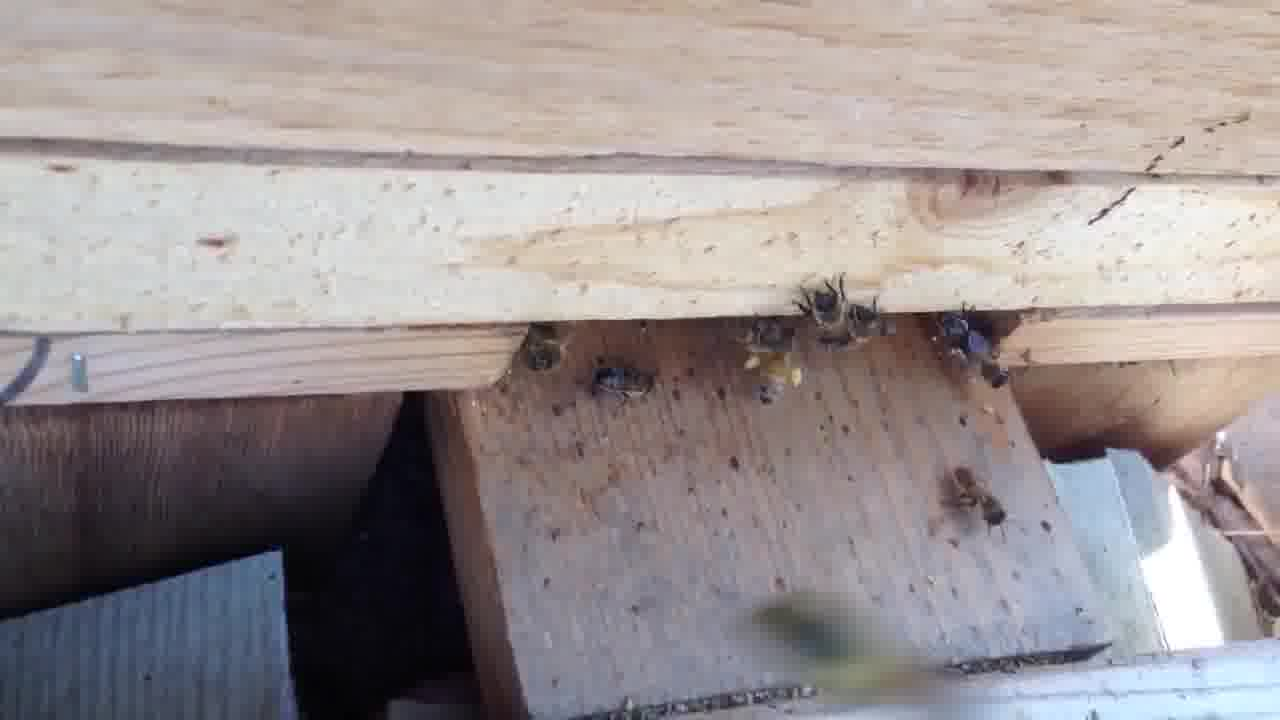pollen: (744, 318, 809, 407)
